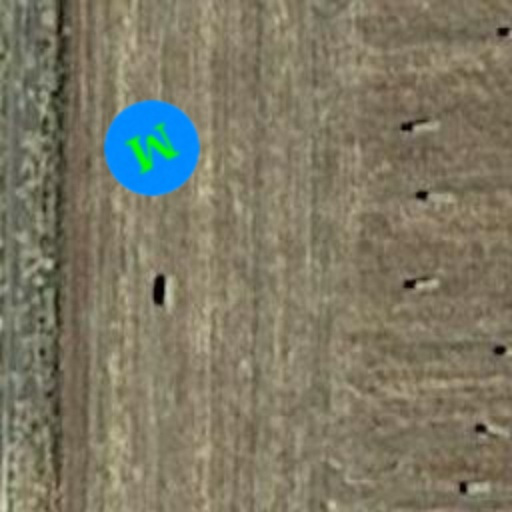circle: (86, 82, 218, 214)
